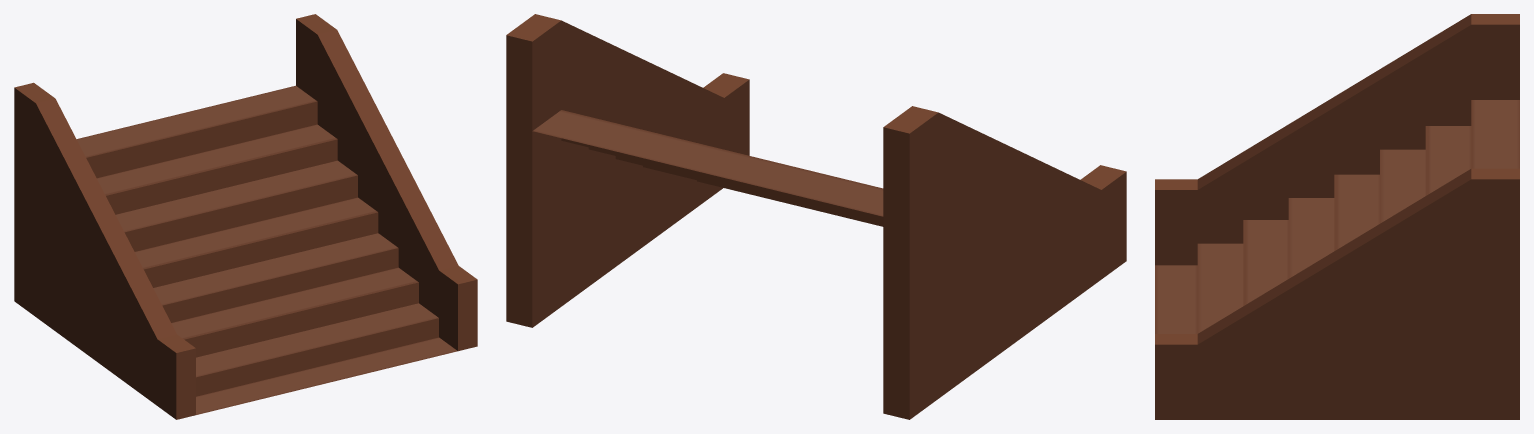
File: SM_Env_Stairs_01.glb
3 renders of one model, left to right at view 1: azimuth 30°, elevation 25°; view 2: azimuth 150°, elevation 25°; view 3: azimuth 270°, elevation 25°, orthographic. The views are drawn at different scales.
Parts seen in each view (by area): view 1: SM_Env_Stairs_01; view 2: SM_Env_Stairs_01; view 3: SM_Env_Stairs_01.
Boxes of the visible parts, box(x1,y1,x2,y2) form: SM_Env_Stairs_01: box(14, 14, 477, 419); SM_Env_Stairs_01: box(506, 14, 1126, 419); SM_Env_Stairs_01: box(1155, 14, 1519, 419).
Bounding box in the file's own units: 0.0536 × 0.0364 × 0.05.
1 material, 1 textured.
